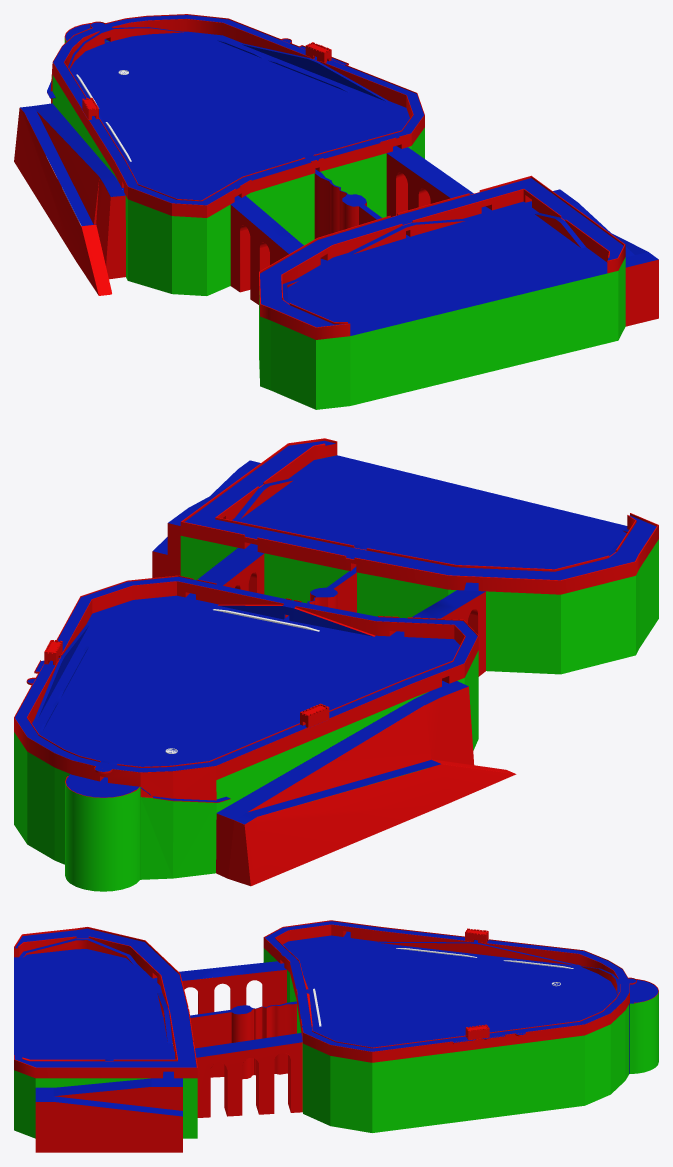
The model's file is ville_10.FBX.
The picture shows the model from 3 angles, top to bottom: view 1: azimuth 30°, elevation 25°; view 2: azimuth 150°, elevation 25°; view 3: azimuth 270°, elevation 25°; orthographic projection. The views are drawn at different scales.
Visible parts, largest first — view 1: Group29, Group27, Group31, Group28, Group30, Group8, Muraille_Sud, Group1, Group2, Pente, Group25, Group16 (+3 smaller); view 2: Group29, Group8, Group31, Group27, Group30, Muraille_Sud, Group28, Group9, Group24, Group1, Group2, Pente (+6 smaller); view 3: Group29, Group28, Group31, Group30, Pente, Muraille_Sud, Group2, Group25, Group1, Group27, Group24, Group21 (+3 smaller).
Part boxes in pixels (x1=…): Group29: x1=69, y1=31, x2=409, y2=201; Group27: x1=259, y1=257, x2=625, y2=409; Group31: x1=287, y1=201, x2=607, y2=335; Group28: x1=52, y1=41, x2=424, y2=295; Group30: x1=52, y1=14, x2=424, y2=217; Group8: x1=14, y1=103, x2=125, y2=295; Muraille_Sud: x1=259, y1=175, x2=625, y2=339; Group1: x1=230, y1=195, x2=303, y2=304; Group2: x1=386, y1=147, x2=473, y2=216; Pente: x1=553, y1=189, x2=658, y2=326; Group25: x1=314, y1=172, x2=381, y2=238; Group16: x1=241, y1=43, x2=388, y2=101; Group29: x1=32, y1=595, x2=448, y2=766; Group8: x1=216, y1=681, x2=516, y2=886; Group31: x1=232, y1=455, x2=627, y2=590; Group27: x1=180, y1=536, x2=658, y2=674; Group30: x1=14, y1=575, x2=478, y2=786; Muraille_Sud: x1=180, y1=438, x2=658, y2=594; Group28: x1=14, y1=650, x2=478, y2=879; Group9: x1=140, y1=766, x2=230, y2=879; Group24: x1=65, y1=774, x2=140, y2=891; Group1: x1=412, y1=590, x2=485, y2=676; Group2: x1=198, y1=548, x2=264, y2=594; Pente: x1=152, y1=460, x2=260, y2=577; Group29: x1=281, y1=933, x2=617, y2=1047; Group28: x1=263, y1=948, x2=629, y2=1132; Group31: x1=14, y1=949, x2=175, y2=1078; Group30: x1=263, y1=920, x2=629, y2=1062; Pente: x1=35, y1=1078, x2=182, y2=1152; Muraille_Sud: x1=14, y1=927, x2=197, y2=1078; Group2: x1=195, y1=1033, x2=302, y2=1117; Group25: x1=190, y1=1001, x2=296, y2=1079; Group1: x1=179, y1=961, x2=286, y2=1014; Group27: x1=14, y1=1070, x2=197, y2=1138; Group24: x1=629, y1=979, x2=658, y2=1073; Group21: x1=378, y1=941, x2=575, y2=965.
Bounding box in the file's own units: 356 × 582 × 89.45.
